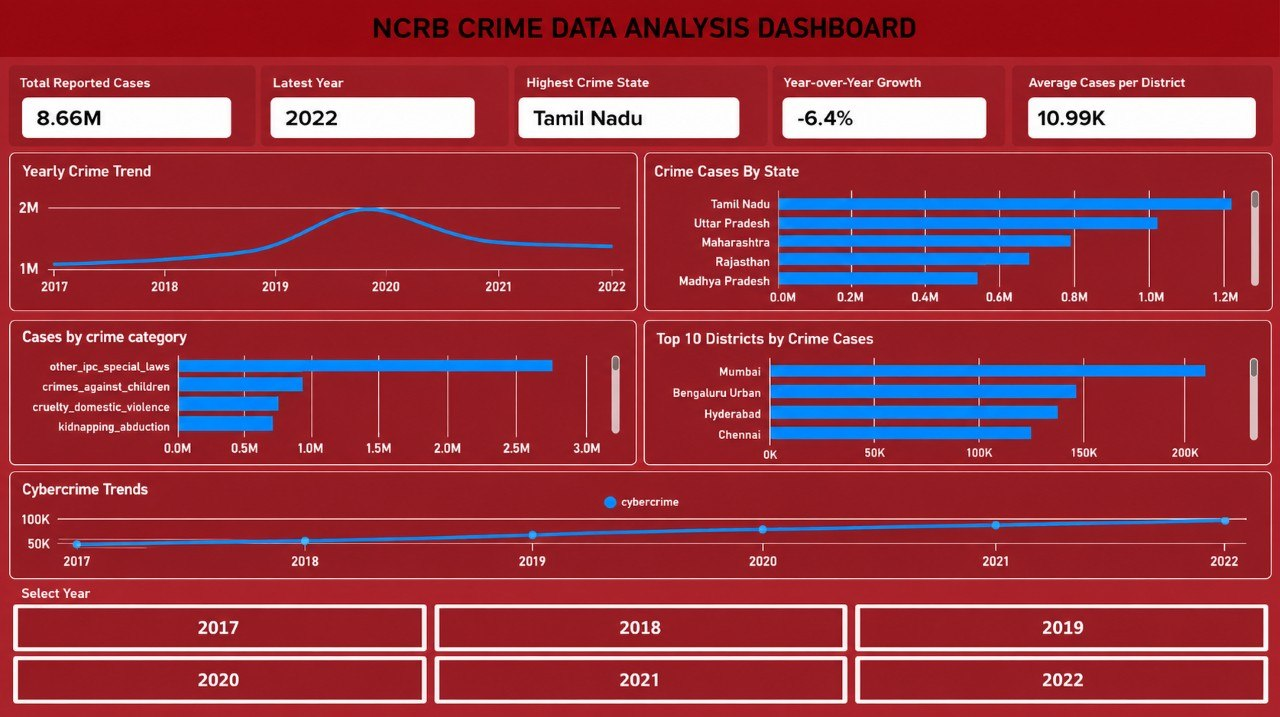

The page's visual inventory and layout, read from the dashboard file:
{"tool":"powerbi","page":{"name":"Executive Overview","canvas":[1920,1080],"ordinal":0},"visuals":[{"type":"lineChart","title":"Yearly Crime Trend","fields":{"Category":["public vw_pbi_yearly.year"],"Y":["Sum(public vw_pbi_yearly.total_cases)"]},"box":[10,234,810,219],"z":0},{"type":"cardVisual","title":"Total  Reported Cases","fields":{"Data":["public vw_pbi_district.Total Reported Cases"]},"box":[10,113,247,105],"z":1000},{"type":"cardVisual","title":"Latest Year","fields":{"Data":["public vw_pbi_yearly.Latest Year"]},"box":[370,119,247,102],"z":2000},{"type":"clusteredBarChart","title":"Cases by crime category","fields":{"Category":["public vw_pbi_yearly.crime_category"],"Y":["Sum(public vw_pbi_yearly.total_cases)"]},"box":[10,470,810,204],"z":3000},{"type":"advancedSlicerVisual","title":"Select Year","fields":{"Values":["public vw_pbi_yearly.year"]},"box":[13,895,1836,161],"z":4000},{"type":"textbox","box":[0,0,1919.8,89],"z":5000},{"type":"cardVisual","title":"Highest Crime State","fields":{"Data":["Min(public vw_pbi_state.state_name)"]},"box":[716,119,285,99],"z":6000},{"type":"clusteredBarChart","title":"Crime Cases By State","fields":{"Category":["public vw_pbi_state.state_name"],"Y":["Sum(public vw_pbi_state.total_cases)"]},"box":[896,234,953,219],"z":7000},{"type":"lineChart","title":"Cybercrime Trends","fields":{"Category":["public vw_pbi_yearly.year"],"Series":["public vw_pbi_yearly.crime_category"],"Y":["Sum(public vw_pbi_yearly.total_cases)"]},"box":[13,697,1841,174],"z":8000},{"type":"clusteredBarChart","title":"Top 10 Districts by Crime Cases","fields":{"Category":["public vw_pbi_district.district_name"],"Y":["Sum(public vw_pbi_district.total_cases)"]},"box":[896,470,958,204],"z":9000},{"type":"cardVisual","title":"Year-over-Year Growth","fields":{"Data":["public vw_pbi_district.YoY Growth %"]},"box":[1118,122,257,99],"z":10000},{"type":"cardVisual","title":"Average Cases per District","fields":{"Data":["public vw_pbi_district.Average Cases per District"]},"box":[1485,122,299,99],"z":11000}]}

Visuals, with their boxes in screenshot pixels (x1, y1, x2, y2), scaled from the page's 1920x1080 canvas onto the 1280x717 screenshot:
"Yearly Crime Trend" lineChart: (7,155,547,301)
"Total  Reported Cases" cardVisual: (7,75,171,145)
"Latest Year" cardVisual: (247,79,411,147)
"Cases by crime category" clusteredBarChart: (7,312,547,447)
"Select Year" advancedSlicerVisual: (9,594,1233,701)
textbox: (0,0,1279,59)
"Highest Crime State" cardVisual: (477,79,667,145)
"Crime Cases By State" clusteredBarChart: (597,155,1233,301)
"Cybercrime Trends" lineChart: (9,463,1236,578)
"Top 10 Districts by Crime Cases" clusteredBarChart: (597,312,1236,447)
"Year-over-Year Growth" cardVisual: (745,81,917,147)
"Average Cases per District" cardVisual: (990,81,1189,147)
